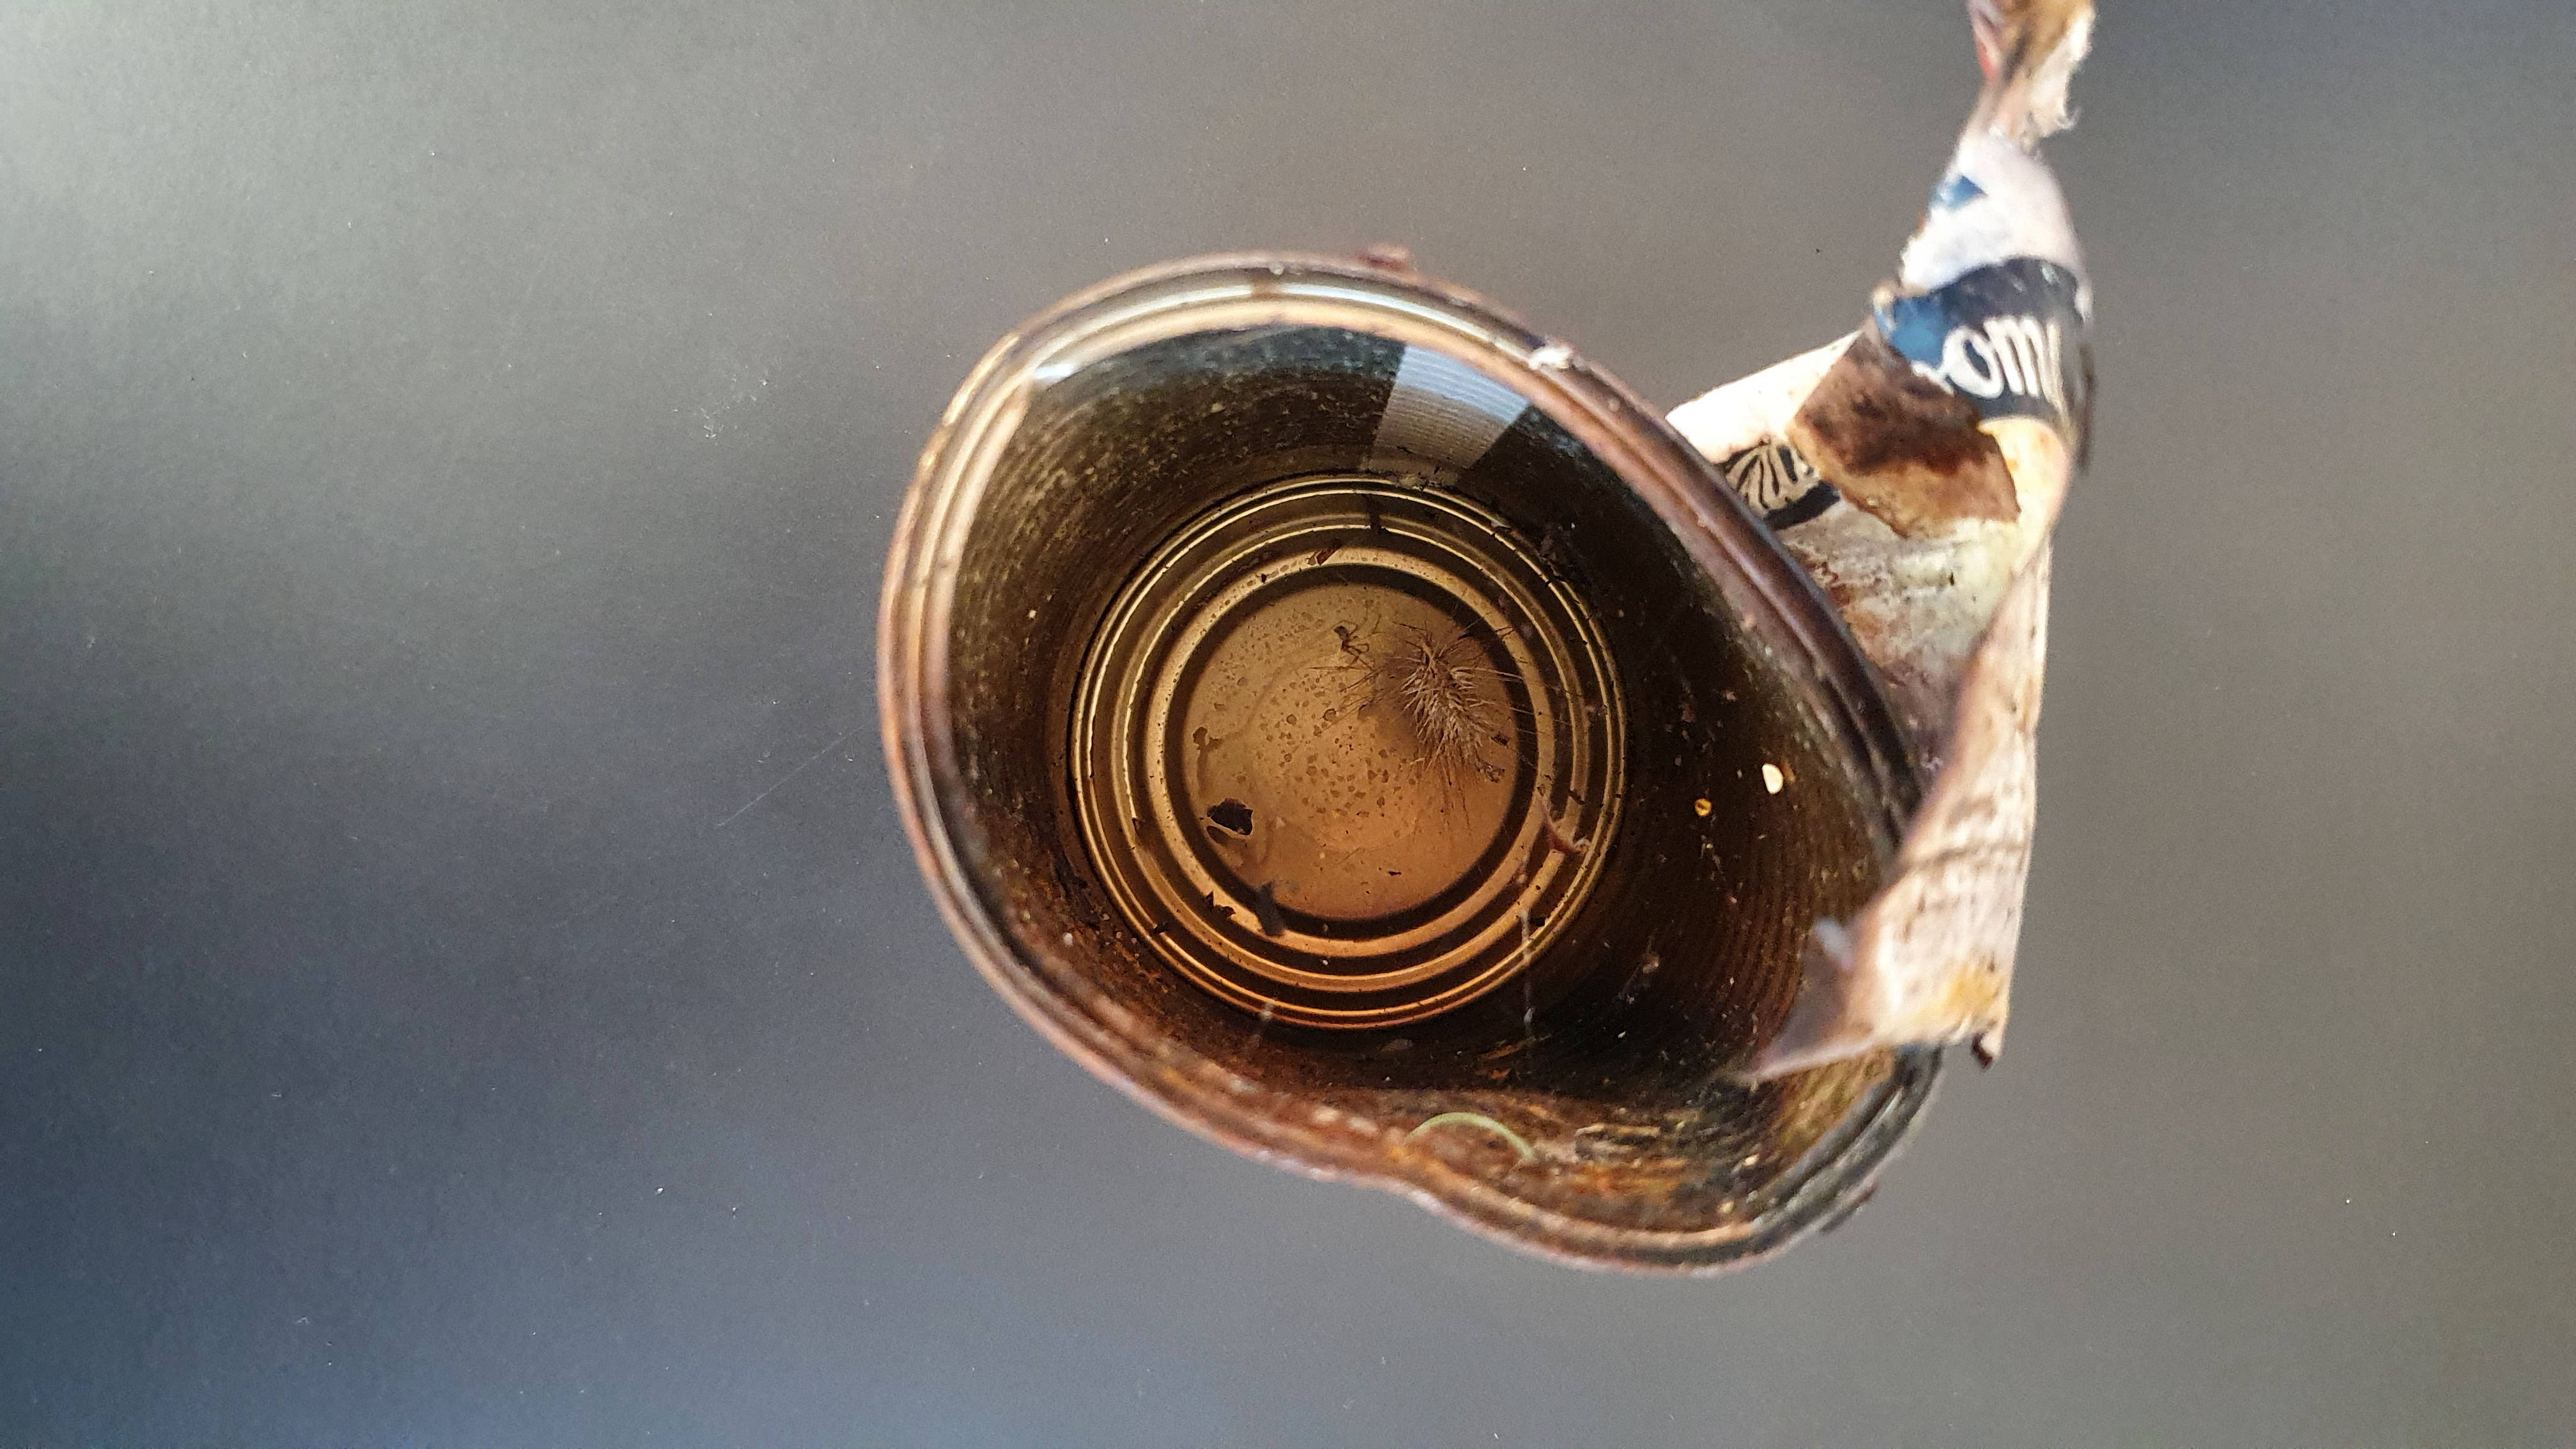metal: (839, 0, 2178, 1315)
